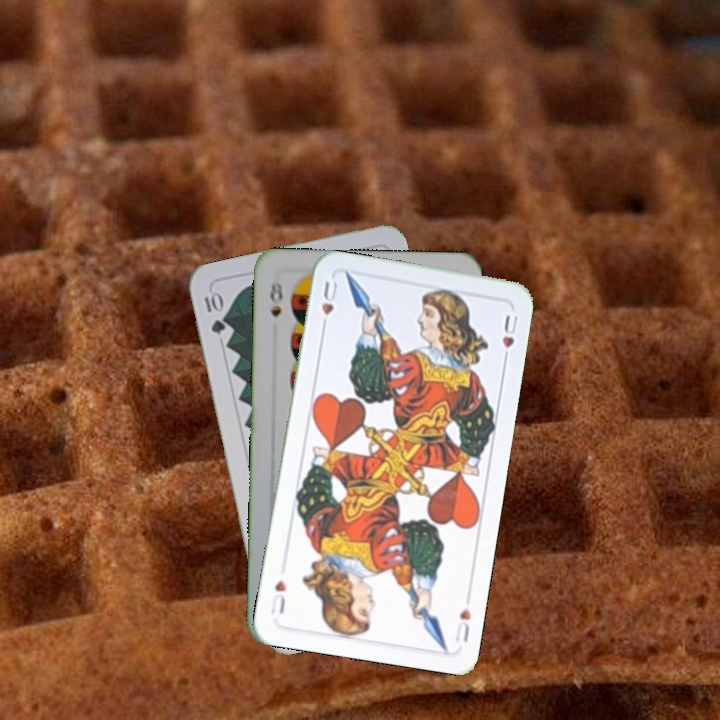G10: (200, 288, 228, 337)
HU: (317, 277, 340, 334), (451, 604, 474, 645)
S8: (265, 278, 286, 320)
